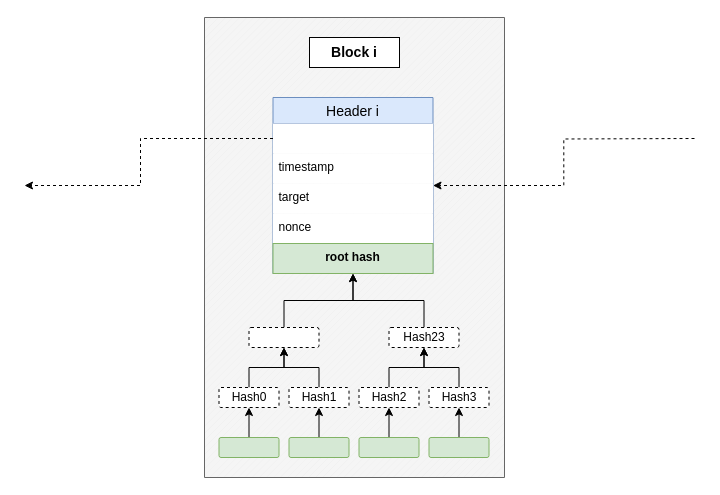
Image size: 720x495. Some labels were removed from this diagram. The shapes that lost their labels are listed below. From the top down, each one's centre as x and y in pixels, then its label:
the point at 352,138: hash of block i - 1
the point at 283,337: Hash01
the point at 248,447: Tx0
the point at 318,447: Tx1
the point at 388,447: Tx2
the point at 458,447: Tx3
